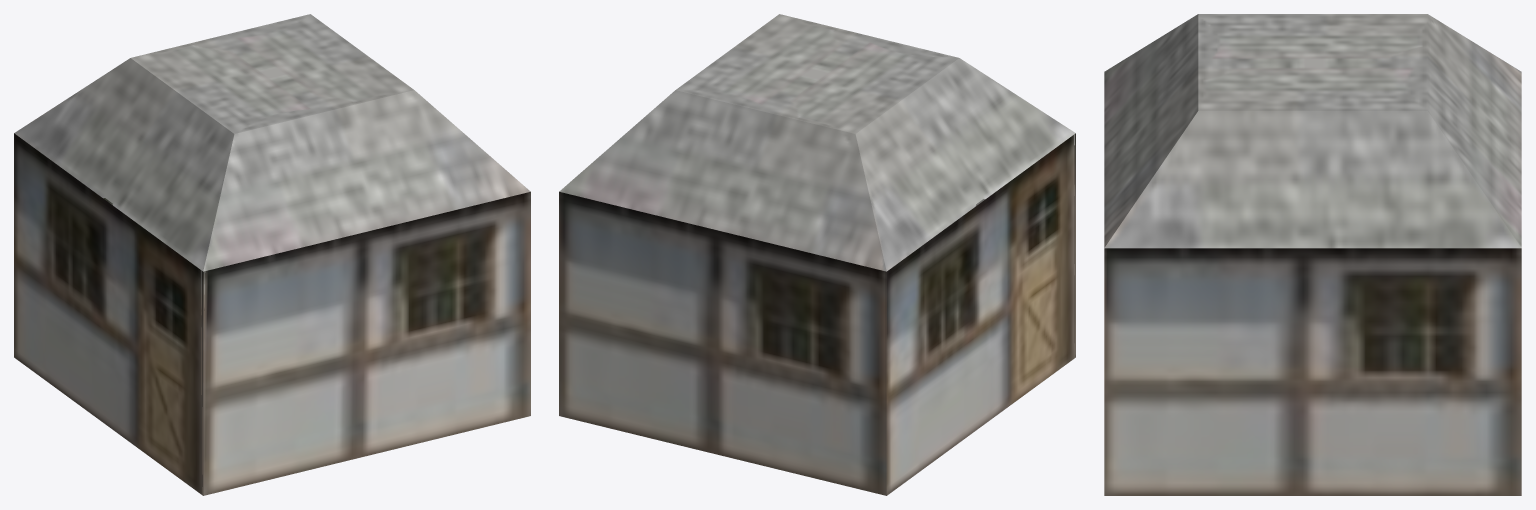
File: House.fbx
The picture shows the model from 3 angles, left to right: view 1: azimuth 30°, elevation 25°; view 2: azimuth 150°, elevation 25°; view 3: azimuth 270°, elevation 25°; orthographic projection. The views are drawn at different scales.
Parts seen in each view (by area): view 1: Cube; view 2: Cube; view 3: Cube.
Boxes of the visible parts, x1,y1,x2,y2 form: Cube: (14, 14, 530, 495); Cube: (559, 14, 1075, 495); Cube: (1104, 14, 1521, 495).
Bounding box in the file's own units: 200 × 182 × 200.
